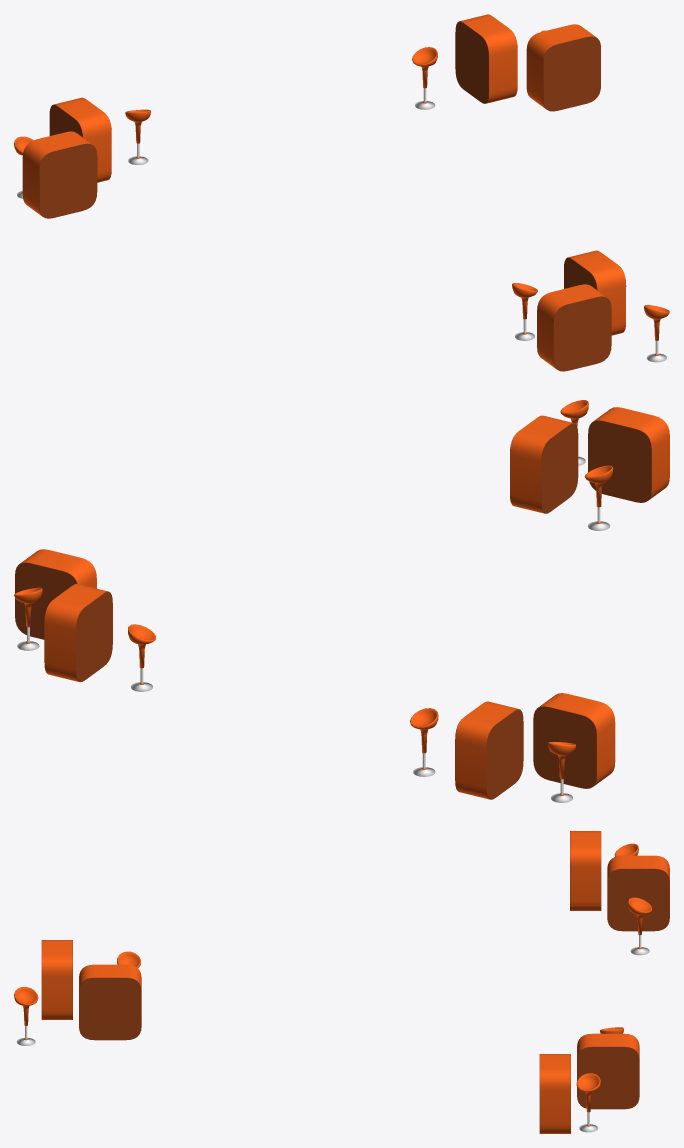
Rendered from Counter.fbx.
3 renders of one model, top to bottom at view 1: azimuth 30°, elevation 25°; view 2: azimuth 150°, elevation 25°; view 3: azimuth 270°, elevation 25°, orthographic. The views are drawn at different scales.
Visible parts, largest first — view 1: Counter; view 2: Counter; view 3: Counter.
Part boxes in pixels (x1,y1,x2,y2): Counter: (14,14,669,371); Counter: (14,400,669,802); Counter: (14,831,669,1133).
Bounding box in the file's own units: 1109 × 137 × 1233.
Materials: 1 (1 with a texture image).
